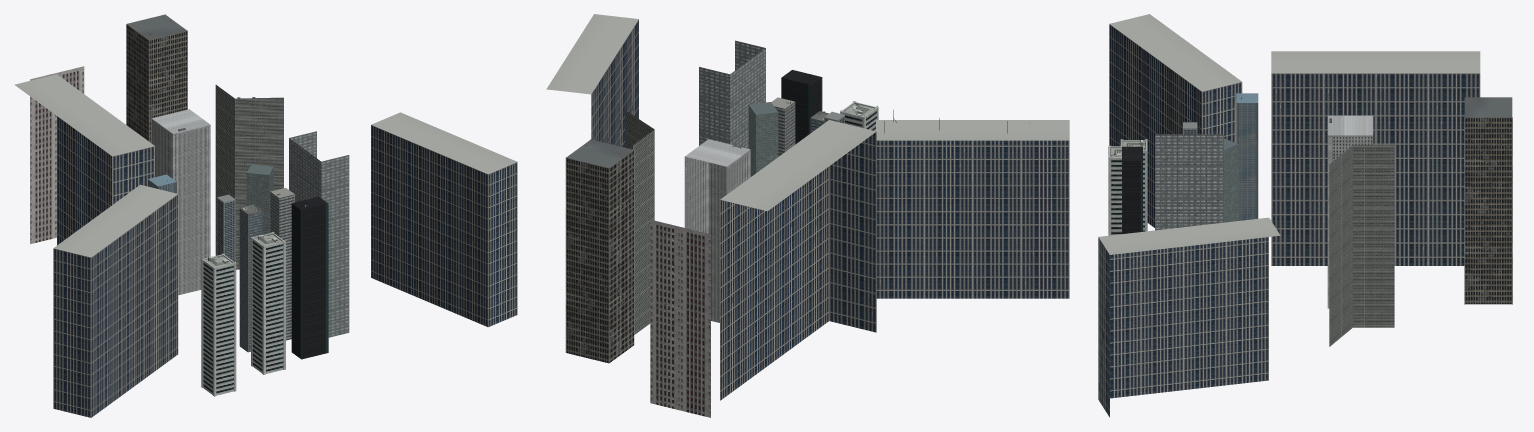
Rendered from 00_03_outside_waitroom.dae.
3 views of the same model, side by side, from view 1: azimuth 30°, elevation 25°; view 2: azimuth 150°, elevation 25°; view 3: azimuth 270°, elevation 25° (orthographic). The views are drawn at different scales.
Parts seen in each view (by area): view 1: polySurface4, apa_polySurface1, polySurface5, Mesh, polySurface6; view 2: polySurface4, apa_polySurface1, Mesh, polySurface5; view 3: polySurface4, polySurface5, apa_polySurface1, Mesh, polySurface6.
Part boxes in pixels (box(x1,y1,x2,y2)): polySurface4: box(14, 74, 328, 417); apa_polySurface1: box(30, 66, 349, 352); polySurface5: box(371, 112, 517, 327); Mesh: box(126, 14, 187, 143); polySurface6: box(201, 253, 236, 396); polySurface4: box(720, 70, 1069, 400); apa_polySurface1: box(625, 40, 876, 417); Mesh: box(565, 139, 634, 363); polySurface5: box(546, 14, 638, 147); polySurface4: box(1108, 14, 1480, 265); polySurface5: box(1098, 217, 1280, 417); apa_polySurface1: box(1109, 115, 1394, 346); Mesh: box(1464, 97, 1512, 304); polySurface6: box(1120, 139, 1147, 231).
Bounding box in the file's own units: 326 × 251 × 154.
